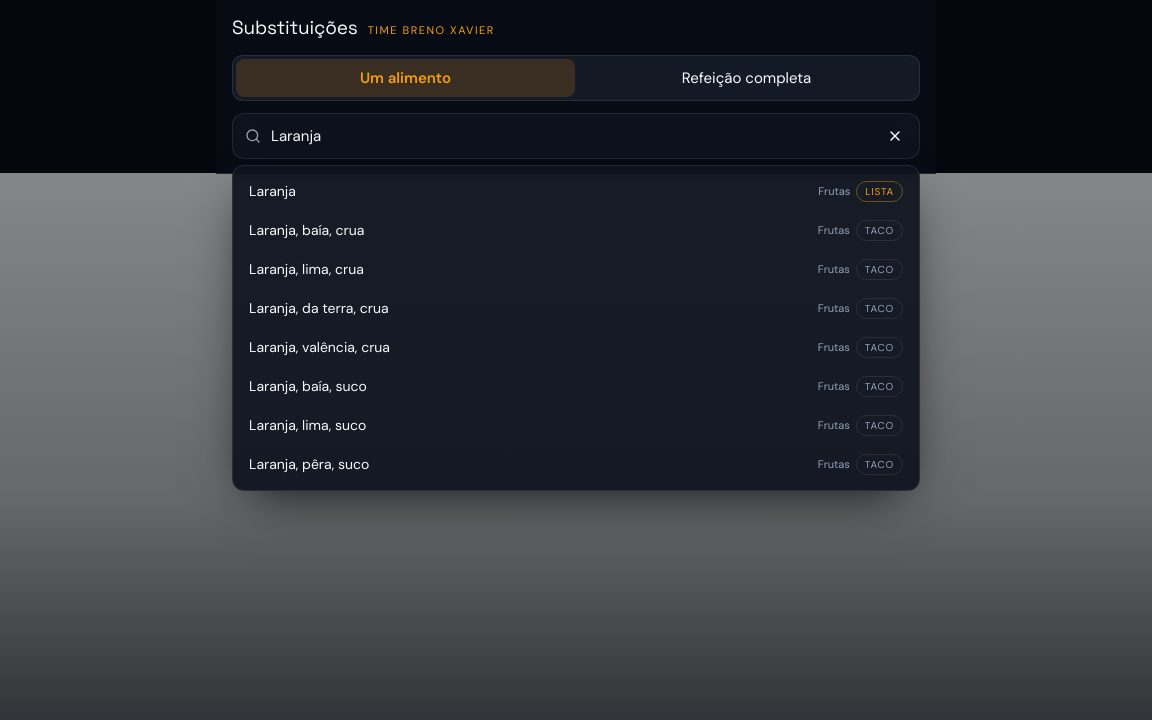
Test: tela de substituição: quantidade digitada pela aluna › o campo vem vazio, com placeholder e foco; nenhum chip marcado; troca só depois de digitar
Earlier steps of the test are not shown.
Press the mouse on the option "Laranja Frutas Lista" at (272, 191), box [249, 181, 903, 202]
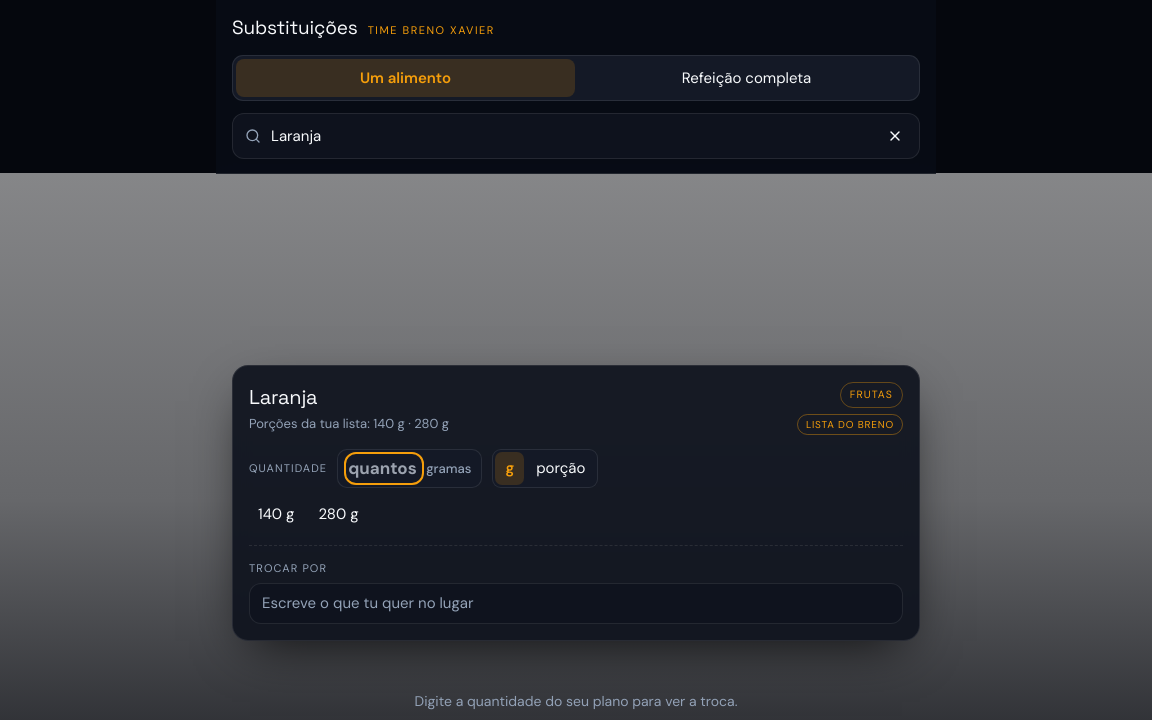
Expected: the text "Pode trocar por" is not shown
Expected: the field labelled "Quantidade" is empty
Expected: the text "Digite a quantidade do seu plano para ver a troca." is shown, [414, 692, 737, 710]
Type "100" into the field labelled "Quantidade" at (384, 469), box [348, 456, 420, 481]
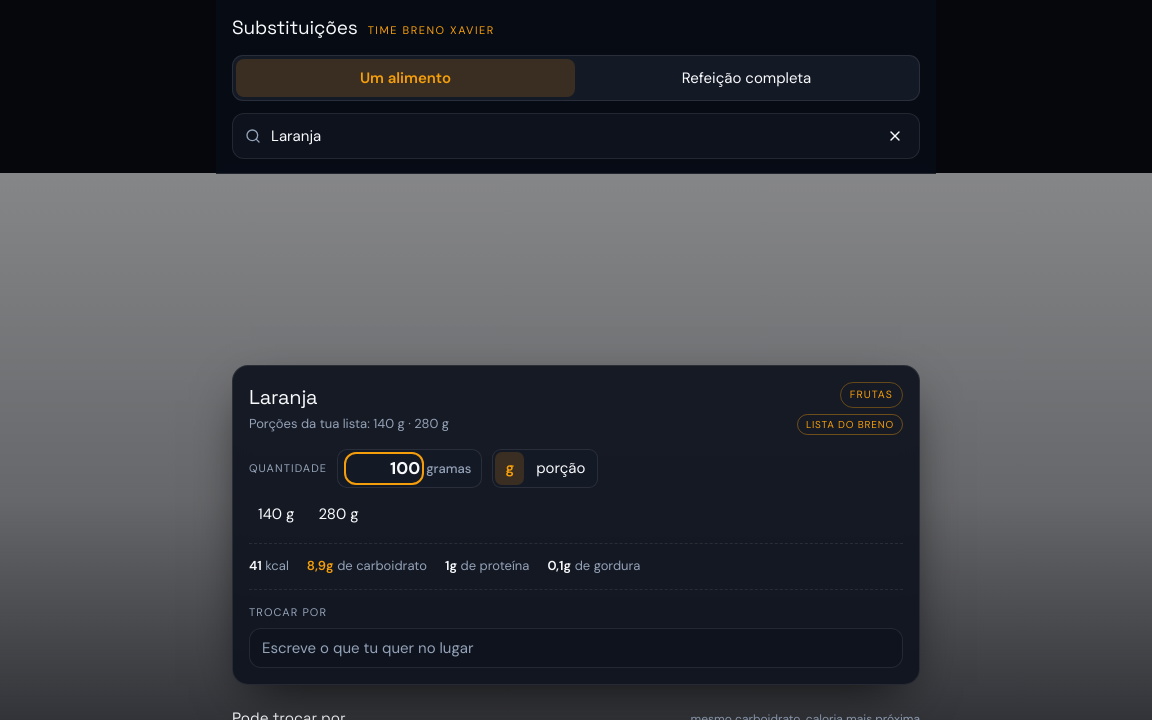
Type "Maça" into the dropdown with placeholder "Escreve o que tu quer no lugar" at (576, 648), box [262, 637, 890, 659]
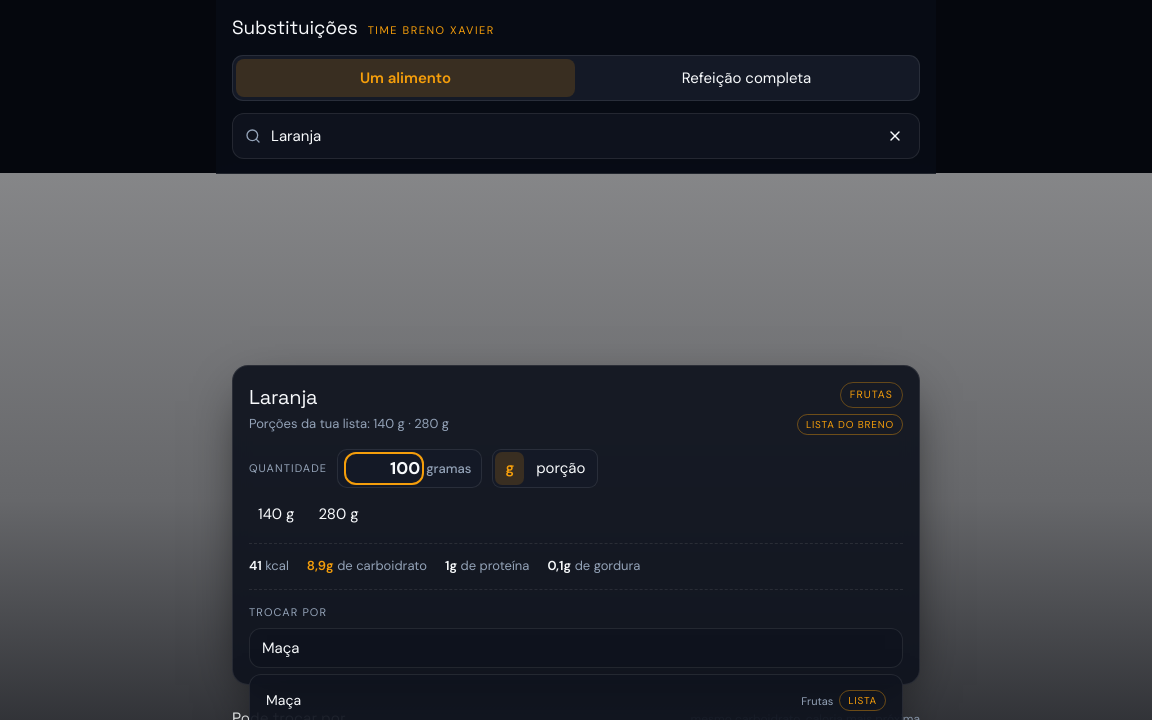
Press the mouse on the option "Maça Frutas Lista" at (284, 700), box [266, 690, 886, 711]
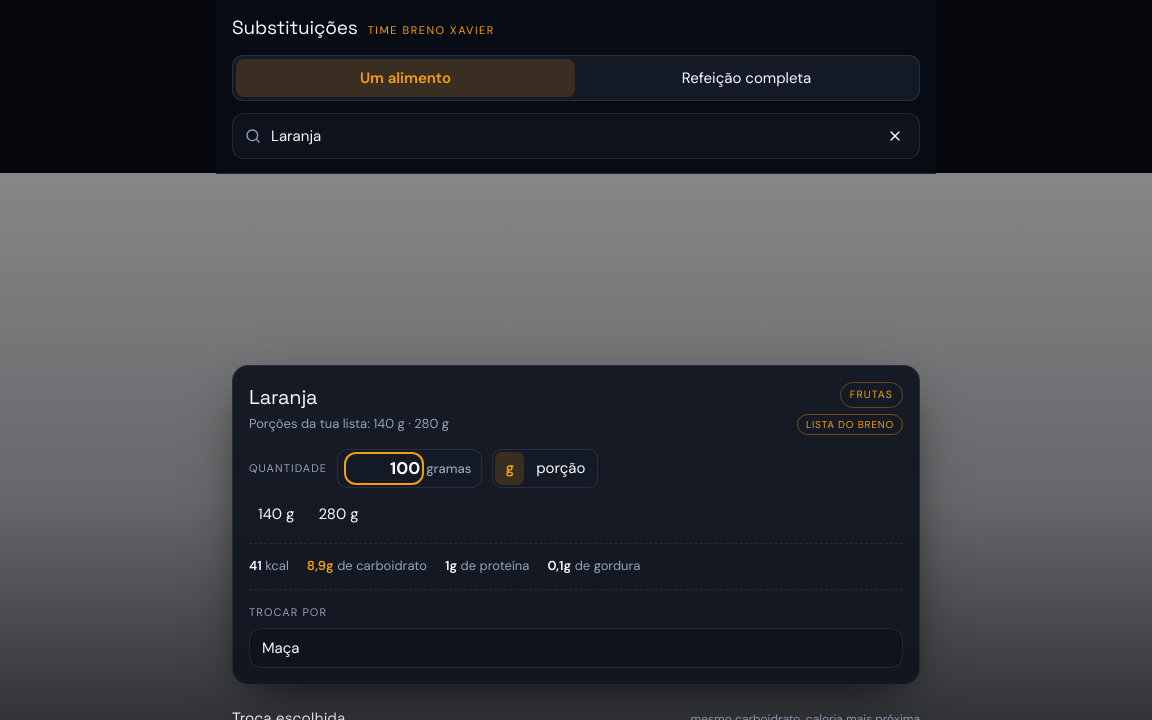
Clear the field labelled "Quantidade" at (384, 469), box [348, 456, 420, 481]
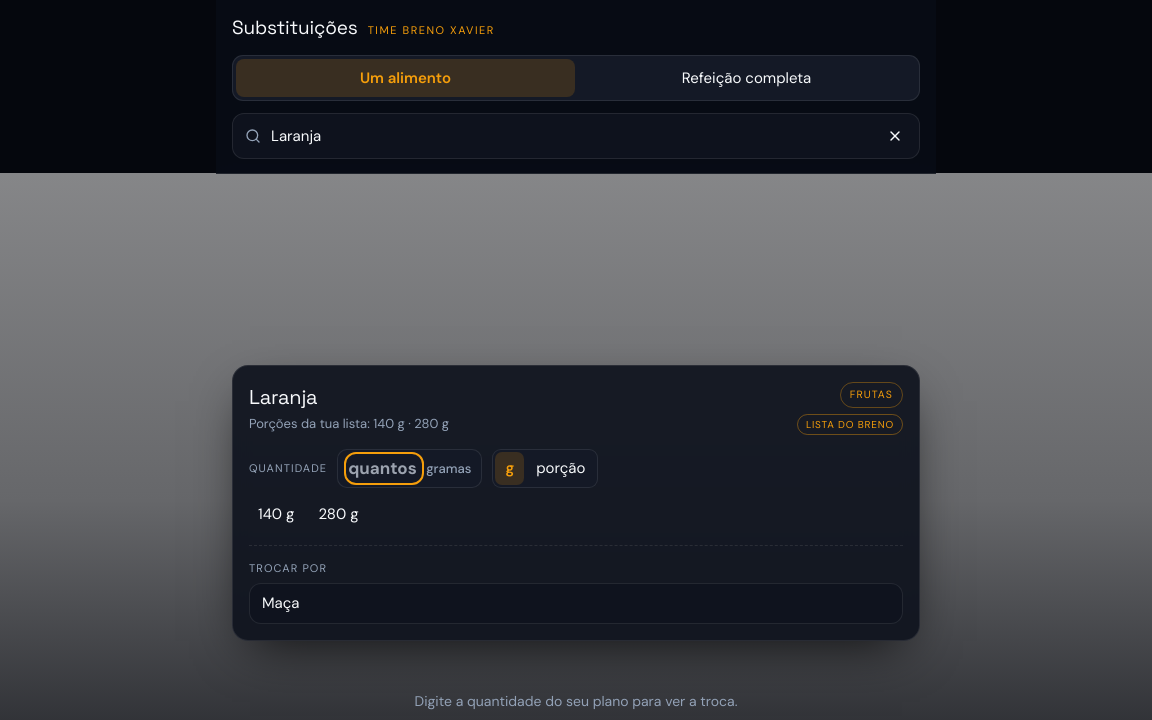
Expected: the text "Digite a quantidade do seu plano para ver a troca." is shown, [414, 692, 737, 710]
Click the button "140 g" at (276, 515), box [249, 498, 303, 531]
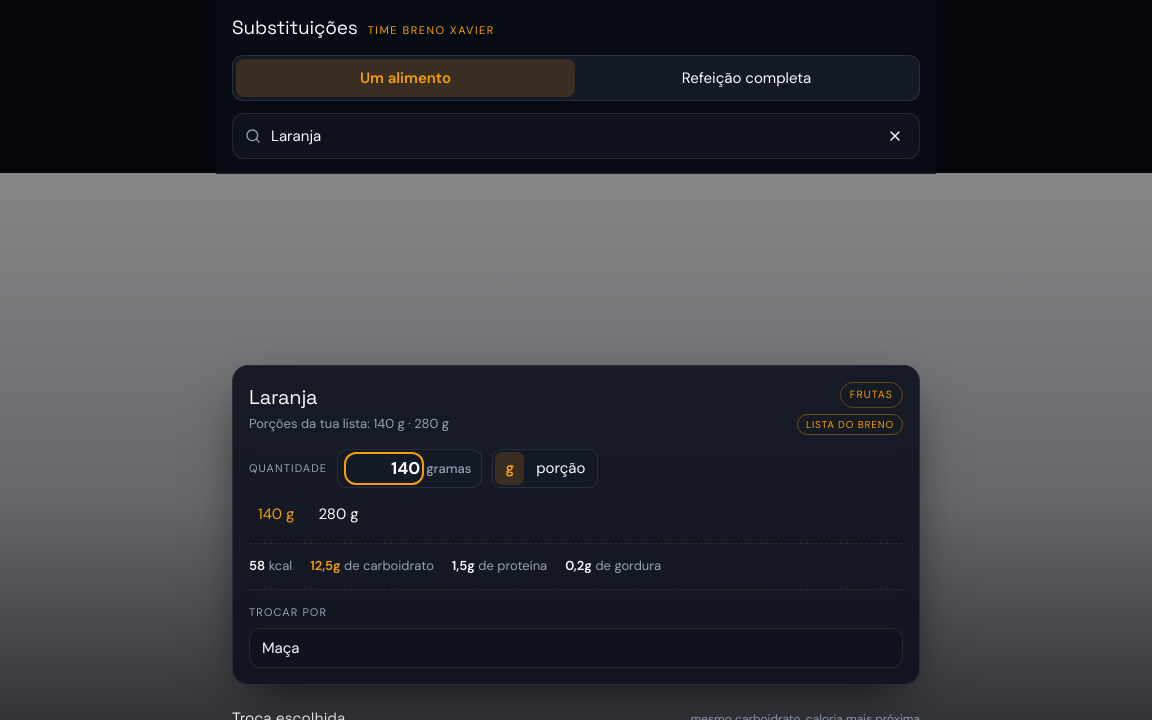
Expected: the field labelled "Quantidade" holds "140", [348, 456, 420, 481]
